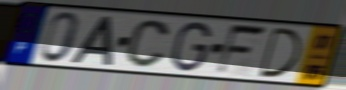0: (39, 10, 82, 65)
A: (69, 15, 114, 67)
C: (123, 18, 173, 70)
D: (257, 26, 303, 80)
F: (213, 23, 270, 77)
G: (169, 20, 214, 73)
